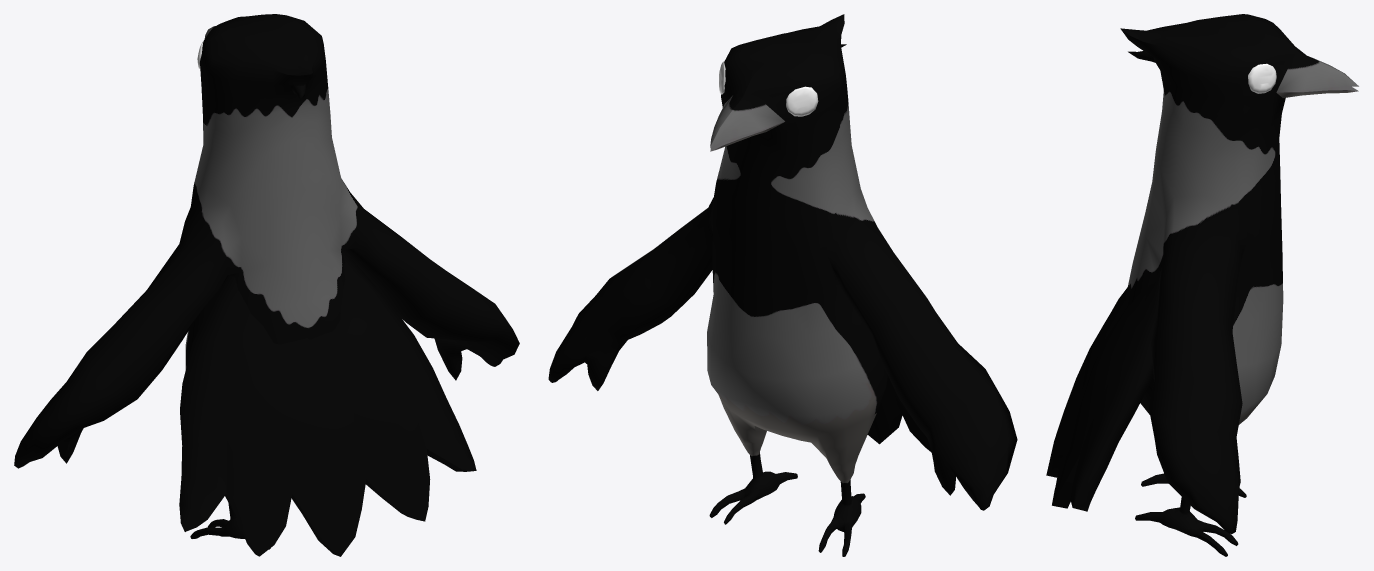
The model's file is Crow2.fbx.
3 renders of one model, left to right at view 1: azimuth 30°, elevation 25°; view 2: azimuth 150°, elevation 25°; view 3: azimuth 270°, elevation 25°, orthographic.
Parts seen in each view (by area): view 1: body, tail; view 2: body, tail, eyes; view 3: body, tail, eyes.
Boxes of the visible parts, left/top/right/bottom form: body: left=14, top=14, right=519, bottom=549; tail: left=179, top=250, right=476, bottom=556; body: left=548, top=14, right=1017, bottom=556; tail: left=867, top=376, right=931, bottom=452; eyes: left=719, top=61, right=818, bottom=116; body: left=1120, top=14, right=1358, bottom=556; tail: left=1046, top=270, right=1160, bottom=511; eyes: left=1248, top=63, right=1276, bottom=93.
Size of the model in its own units: 269 by 273 by 157.
